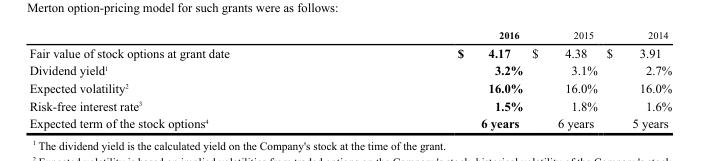table: (28, 29, 671, 130)
table column: (28, 29, 342, 130), (342, 29, 526, 130), (526, 29, 601, 130), (601, 29, 671, 130)
table column header: (28, 29, 671, 42)
table row: (28, 42, 671, 61), (28, 78, 671, 96), (28, 96, 671, 114), (28, 61, 671, 78), (28, 114, 671, 130), (28, 29, 671, 42)
